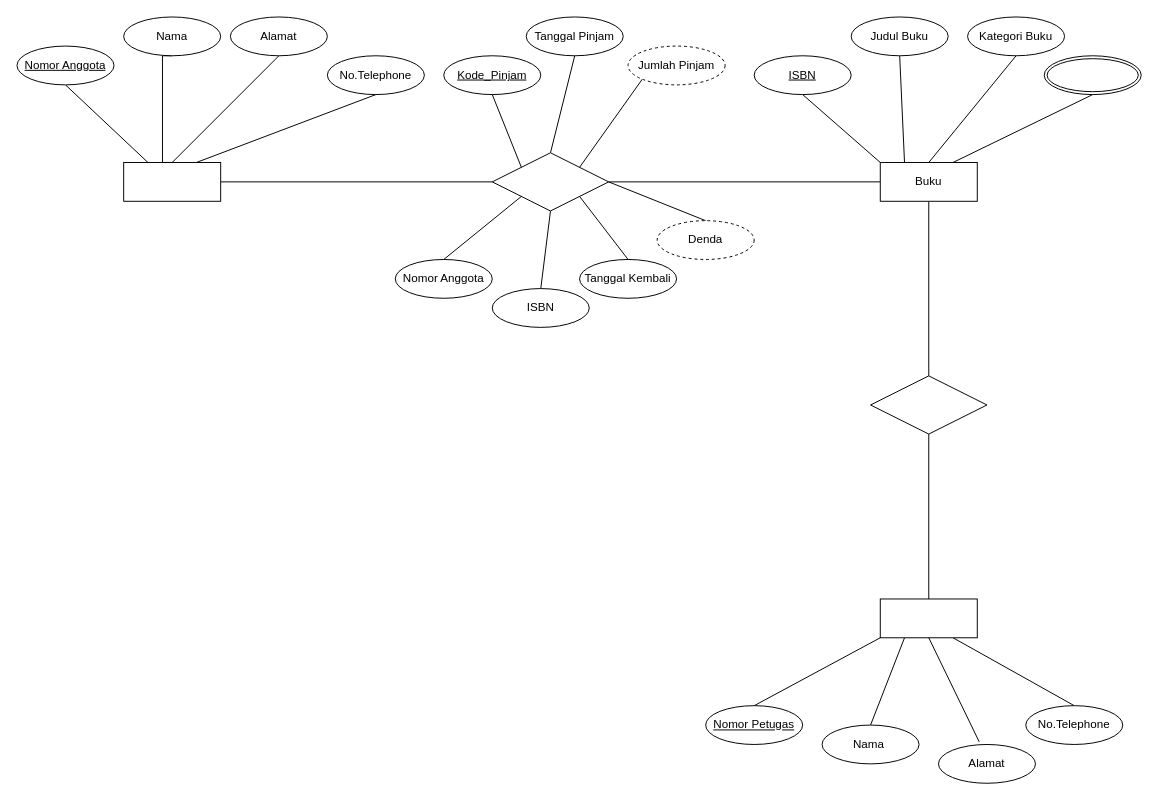
The diagram is 1158 pixels wide and 800 high, and some of its shapes have lost their labels. Each missing label, with the centre of its shape:
Anggota: pixel 172 181
Meminjam: pixel 550 181
Mendata: pixel 928 404
Pengarang: pixel 1092 75
Petugas: pixel 928 618
